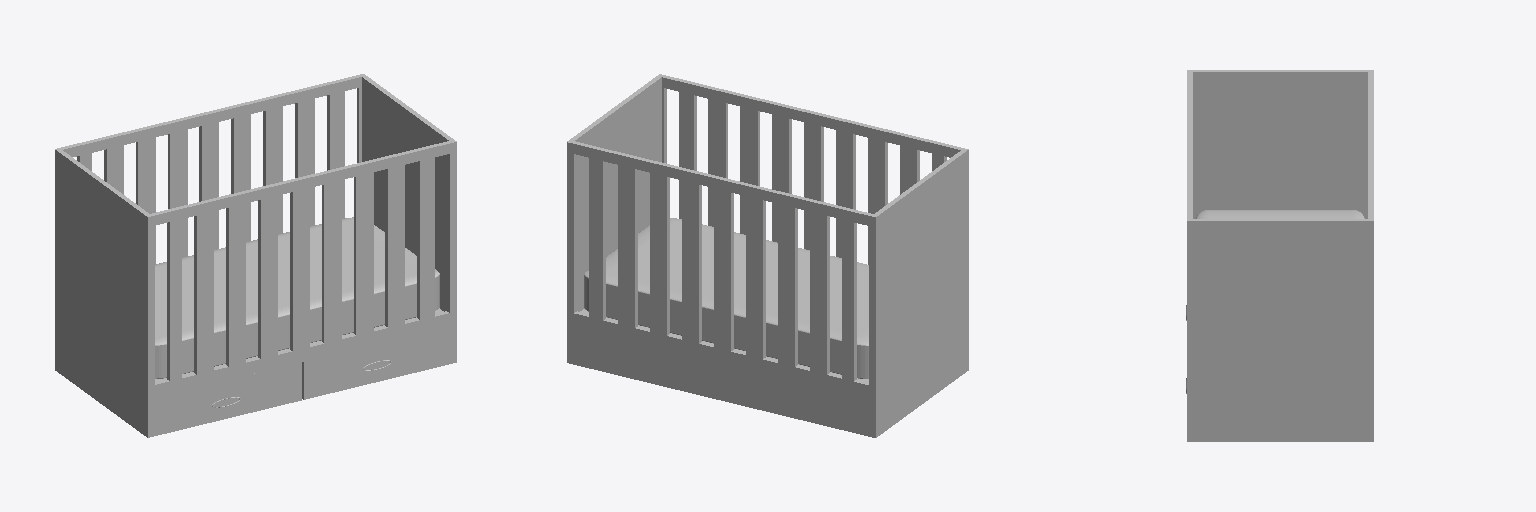
The model's file is Cots_FritidsWhite.obj.
3 views of the same model, side by side, from view 1: azimuth 30°, elevation 25°; view 2: azimuth 150°, elevation 25°; view 3: azimuth 270°, elevation 25° (orthographic).
Visible parts, largest first — view 1: obj_0; view 2: obj_0; view 3: obj_0.
Boxes of the visible parts, x1,y1,x2,y2 form: obj_0: [55, 74, 456, 437]; obj_0: [567, 74, 968, 437]; obj_0: [1186, 70, 1373, 441].
Bounding box in the file's own units: 126 × 86 × 66.